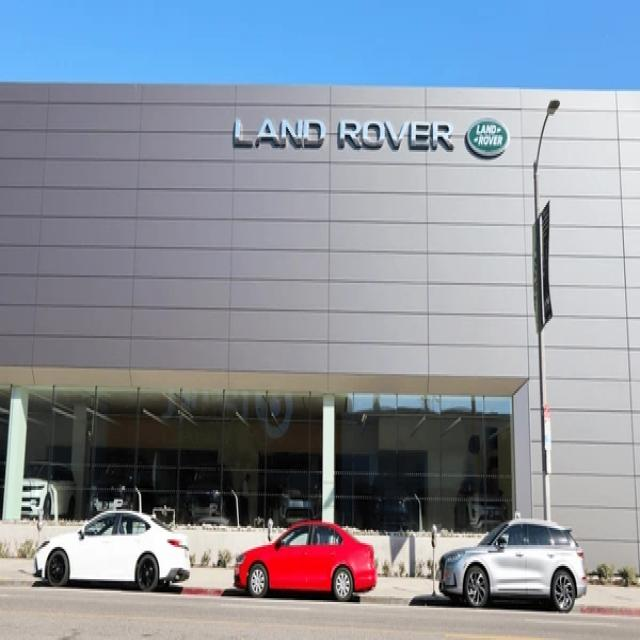landrover: (232, 115, 457, 151), (464, 120, 508, 155)
